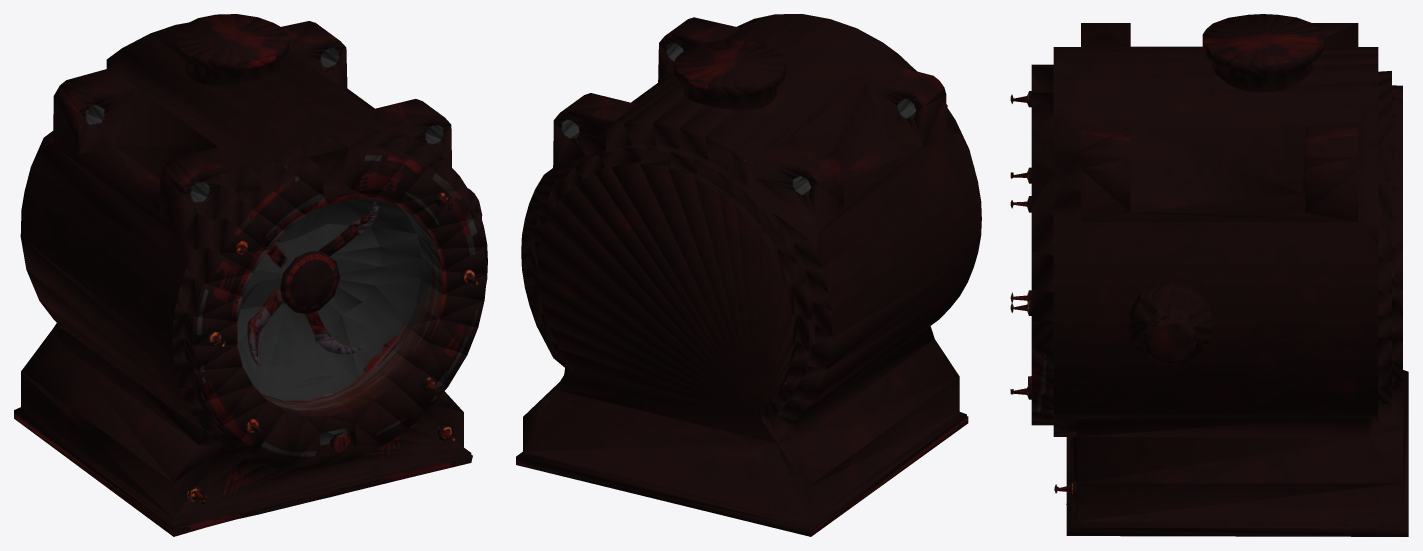
Rendered from wpn_smoke.glb.
The picture shows the model from 3 angles, left to right: view 1: azimuth 30°, elevation 25°; view 2: azimuth 150°, elevation 25°; view 3: azimuth 270°, elevation 25°; orthographic projection. The views are drawn at different scales.
Visible parts, largest first — view 1: tripo_node_2cd35af4-f99e-4937-9702-eec8519f1df0; view 2: tripo_node_2cd35af4-f99e-4937-9702-eec8519f1df0; view 3: tripo_node_2cd35af4-f99e-4937-9702-eec8519f1df0.
Boxes of the visible parts, bbox=[...] form: tripo_node_2cd35af4-f99e-4937-9702-eec8519f1df0: bbox=[14, 14, 487, 536]; tripo_node_2cd35af4-f99e-4937-9702-eec8519f1df0: bbox=[516, 14, 981, 536]; tripo_node_2cd35af4-f99e-4937-9702-eec8519f1df0: bbox=[1010, 14, 1408, 536].
Bounding box in the file's own units: 0.9357 × 0.9979 × 0.8501.
1 material, 1 textured.
